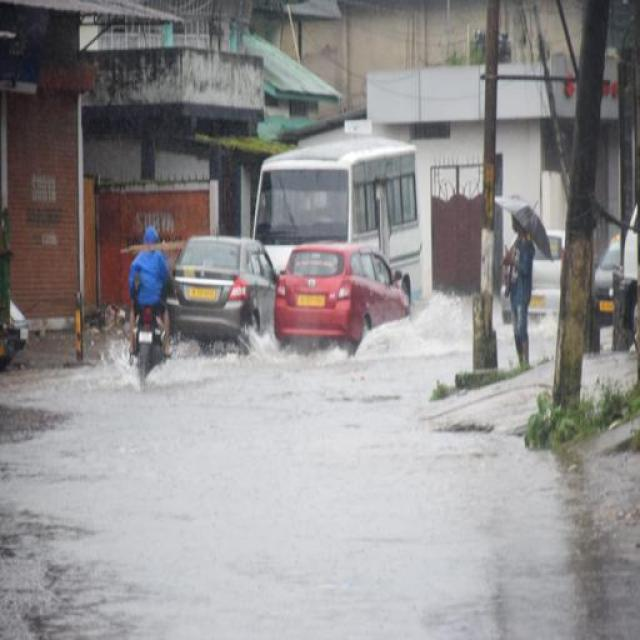puddle: (80, 375, 439, 639), (327, 447, 558, 563)
